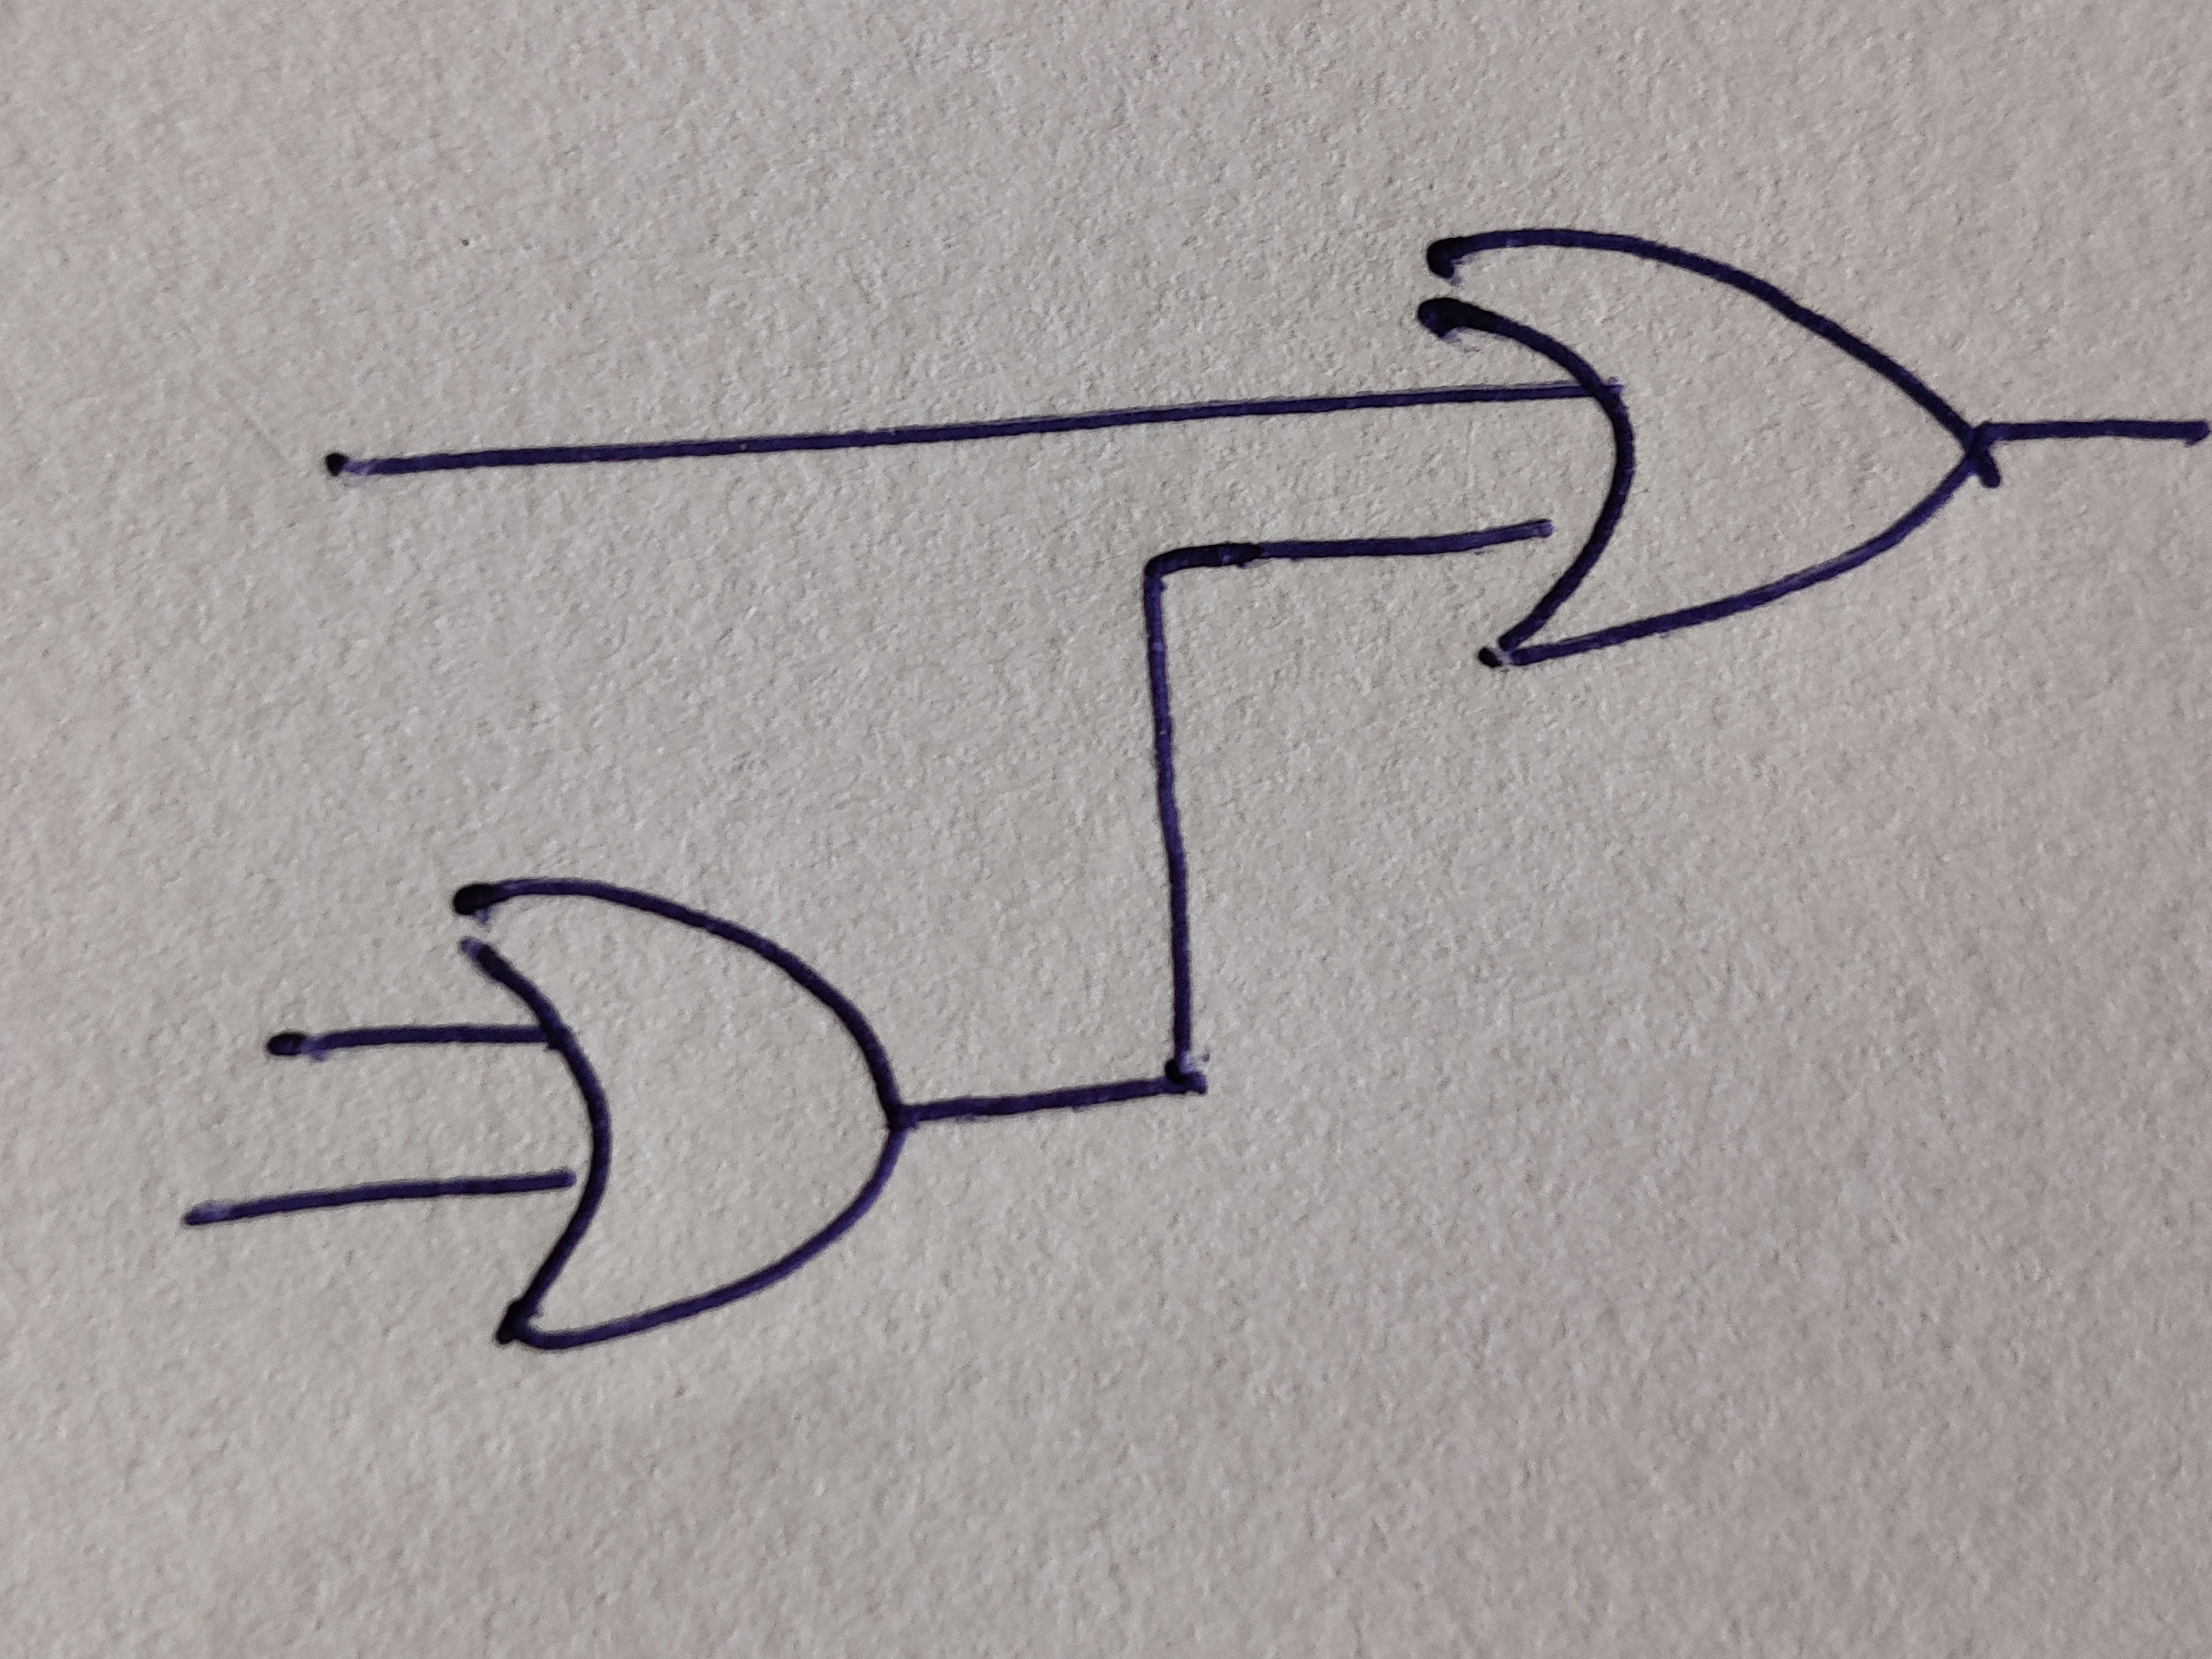or: (1418, 227, 2001, 667), (455, 877, 911, 1351)
